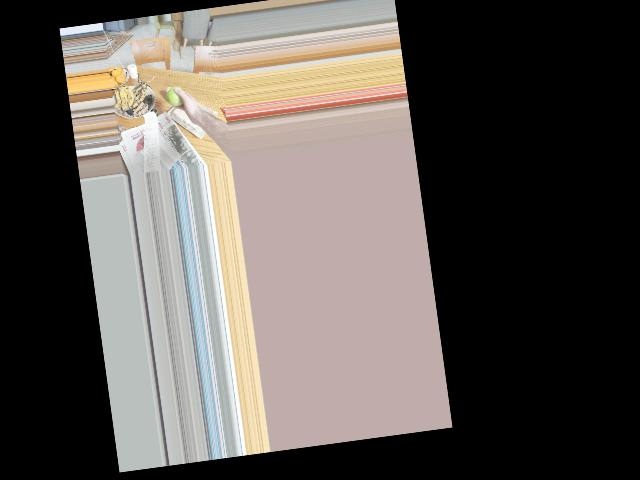apple: (165, 84, 188, 109)
